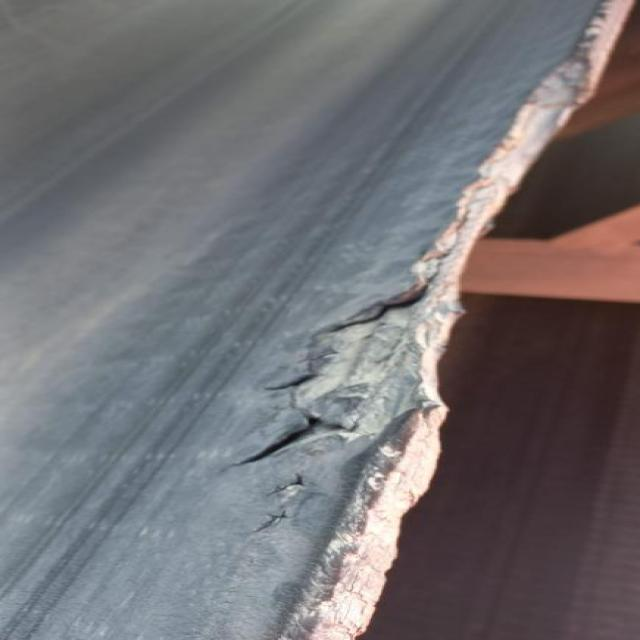Tear: (218, 266, 447, 476), (266, 463, 314, 503), (247, 510, 301, 532)
